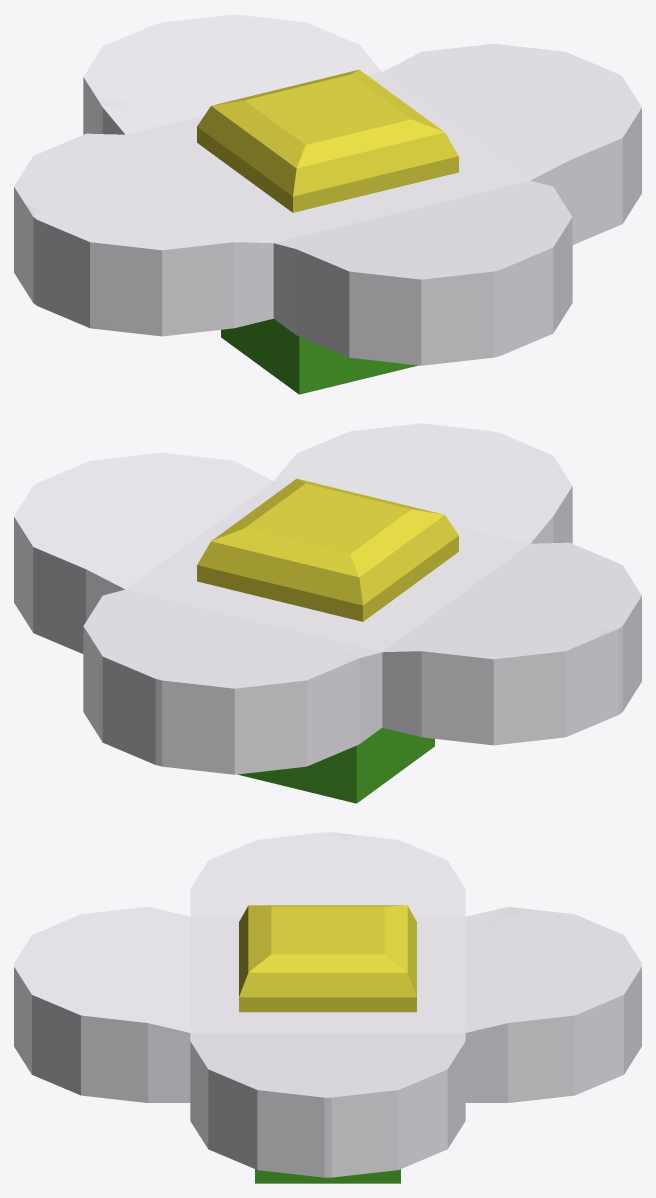
Rendered from FlorAmarilla.fbx.
3 renders of one model, top to bottom at view 1: azimuth 30°, elevation 25°; view 2: azimuth 150°, elevation 25°; view 3: azimuth 270°, elevation 25°, orthographic. The views are drawn at different scales.
Visible parts, largest first — view 1: FlorAmarilla; view 2: FlorAmarilla; view 3: FlorAmarilla.
Boxes of the visible parts, x1,y1,x2,y2 form: FlorAmarilla: [14, 14, 641, 394]; FlorAmarilla: [14, 423, 641, 803]; FlorAmarilla: [14, 832, 641, 1183].
Size of the model in its own units: 70.3 by 27.49 by 70.3.
Materials: 1 (1 with a texture image).
